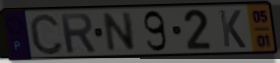2: (185, 7, 215, 53)
9: (141, 9, 169, 53)
C: (27, 12, 65, 57)
K: (217, 8, 248, 50)
N: (102, 11, 137, 54)
R: (58, 12, 98, 55)
